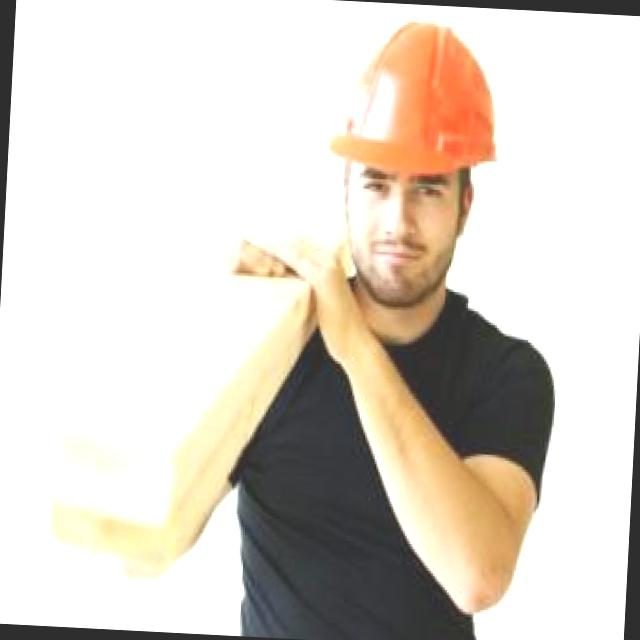helmet: (318, 12, 516, 177)
no-vest: (210, 264, 566, 634)
